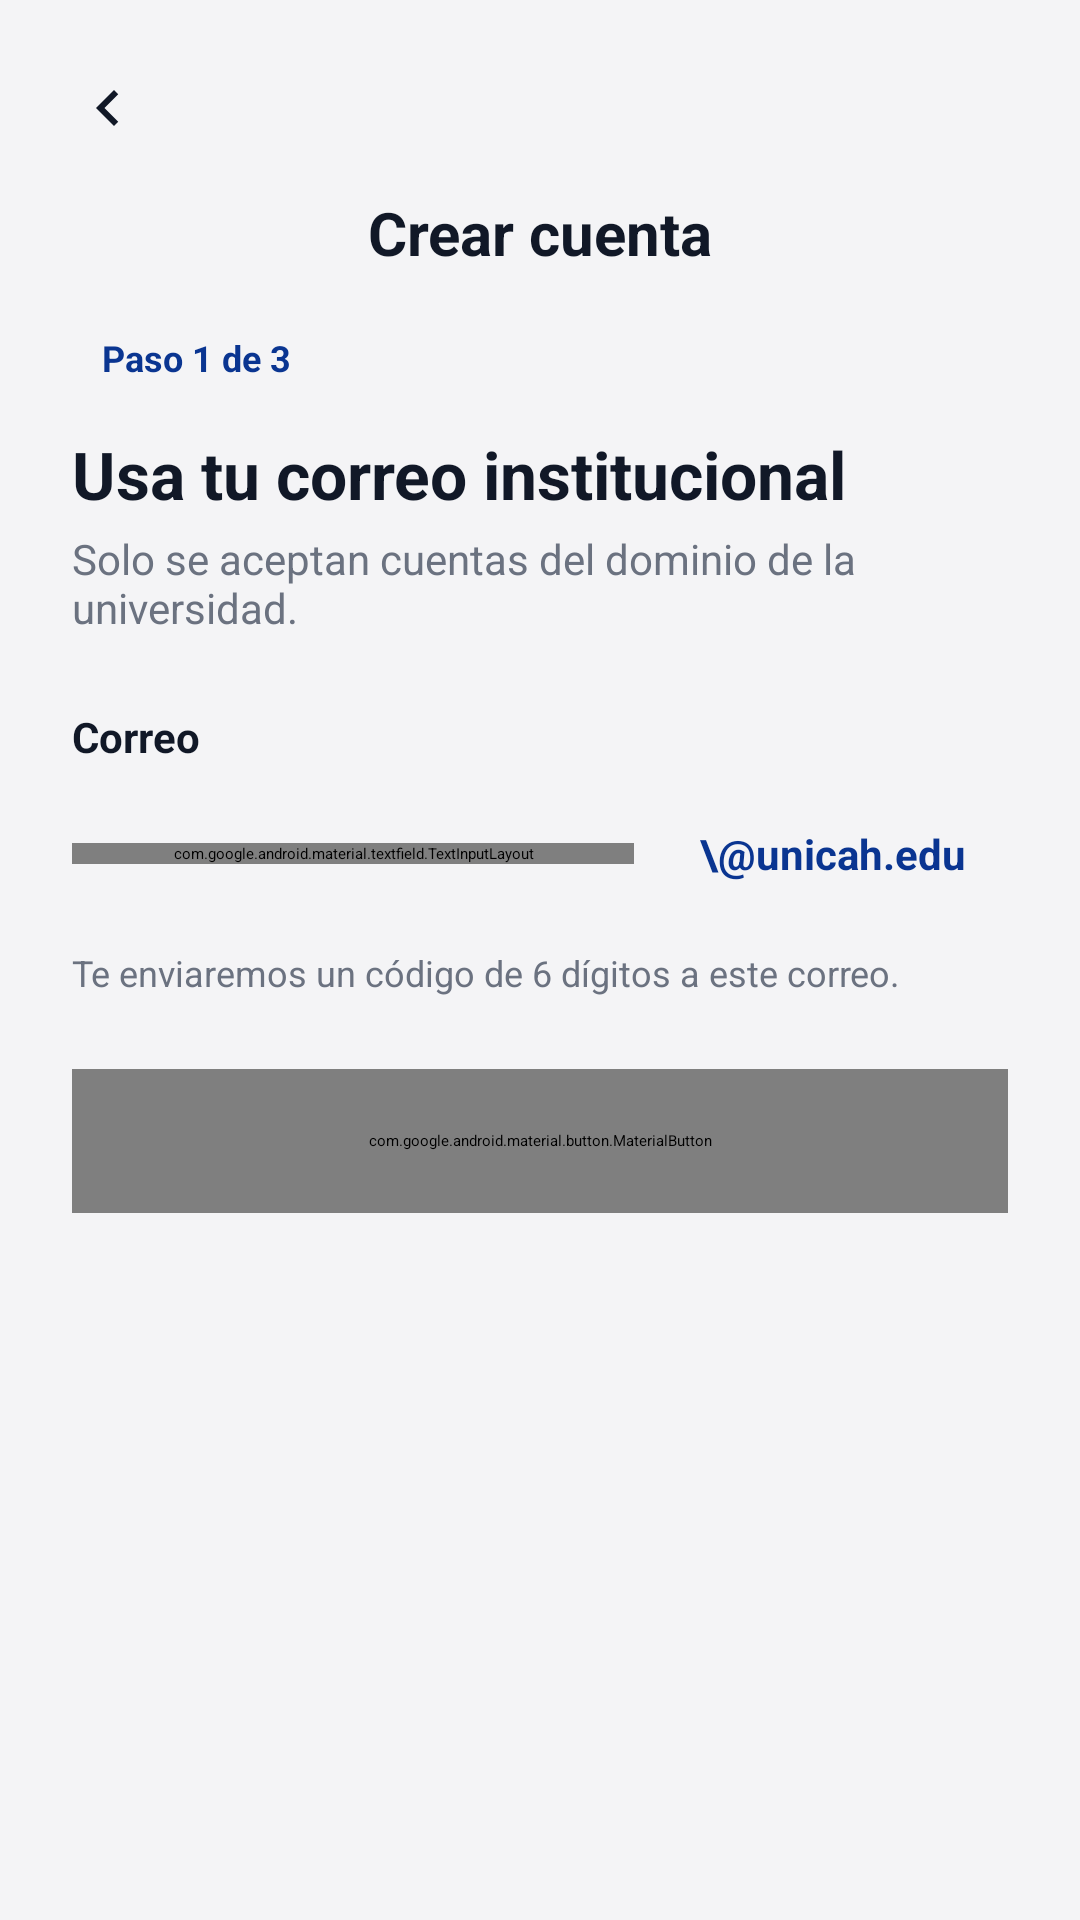

Icon click points for this 1080px×1920px phone screenshot, format (x,y):
Regresar: (107,108)
